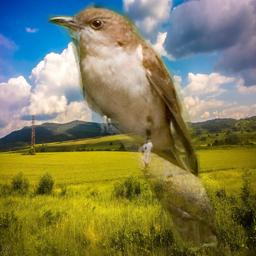Cuckoo: (45, 2, 218, 251)
